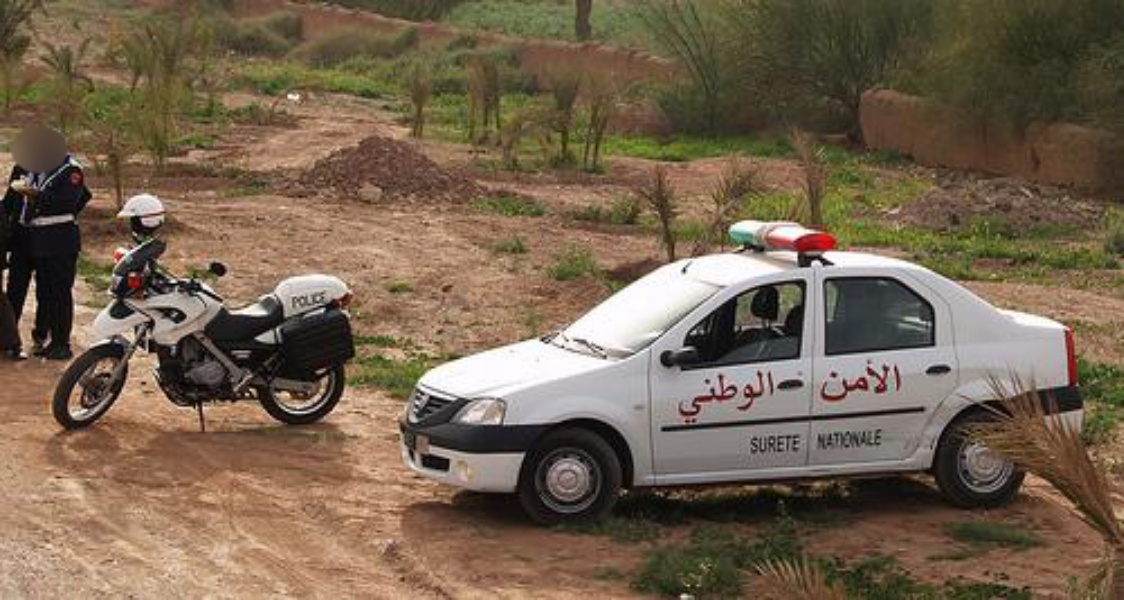text: (689, 369, 704, 425), (705, 369, 720, 425), (721, 369, 736, 425), (737, 369, 752, 425), (753, 369, 768, 425), (833, 360, 848, 405), (849, 360, 864, 405), (865, 360, 880, 405), (881, 360, 896, 405), (769, 369, 781, 425), (677, 369, 688, 425), (817, 425, 832, 452), (833, 425, 848, 452), (849, 425, 864, 452), (865, 425, 880, 452), (753, 432, 768, 457), (769, 432, 784, 457), (785, 432, 800, 457), (289, 288, 304, 311), (305, 288, 320, 311), (826, 360, 832, 405), (897, 360, 902, 405), (321, 288, 329, 311), (881, 425, 886, 452), (747, 432, 752, 457), (801, 432, 805, 457), (814, 425, 816, 452)
